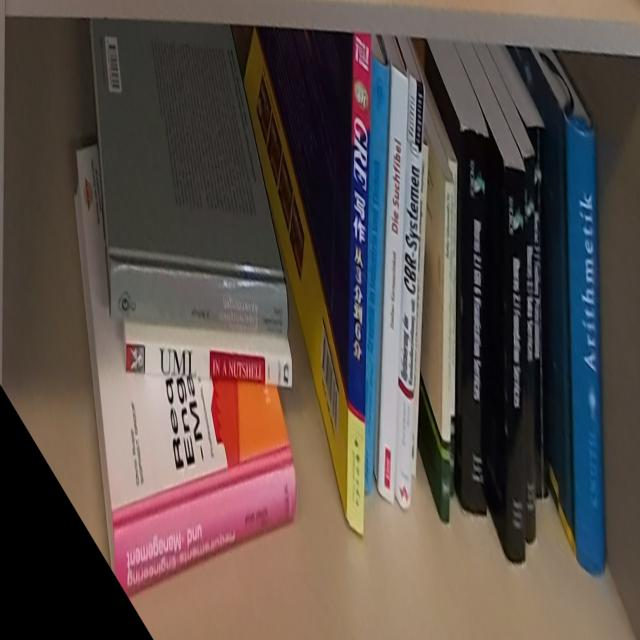Book Spine: (115, 469, 297, 602), (566, 113, 606, 576), (111, 256, 288, 335), (377, 68, 409, 504), (344, 35, 371, 536), (396, 80, 427, 513), (459, 125, 487, 512), (367, 56, 389, 497), (126, 339, 292, 390), (505, 167, 526, 566), (527, 128, 549, 502), (411, 144, 429, 477), (441, 183, 456, 528), (523, 156, 536, 545), (449, 160, 457, 501), (535, 176, 542, 498)
